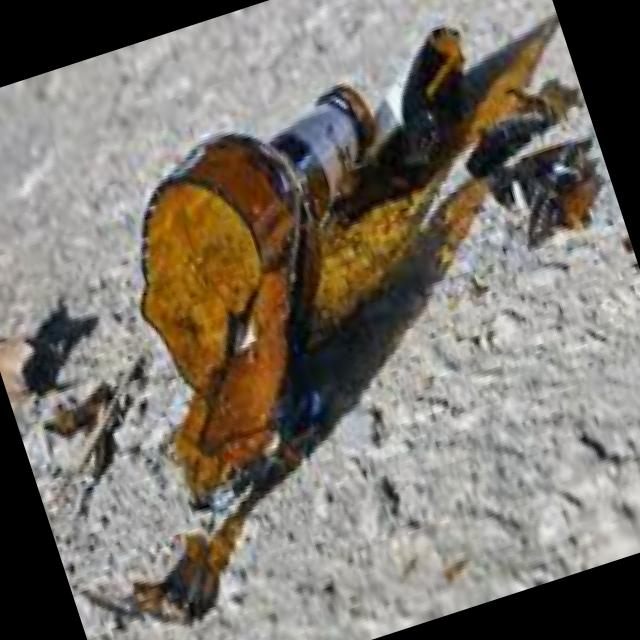PecahanKaca: (67, 0, 640, 513), (478, 126, 618, 258)
